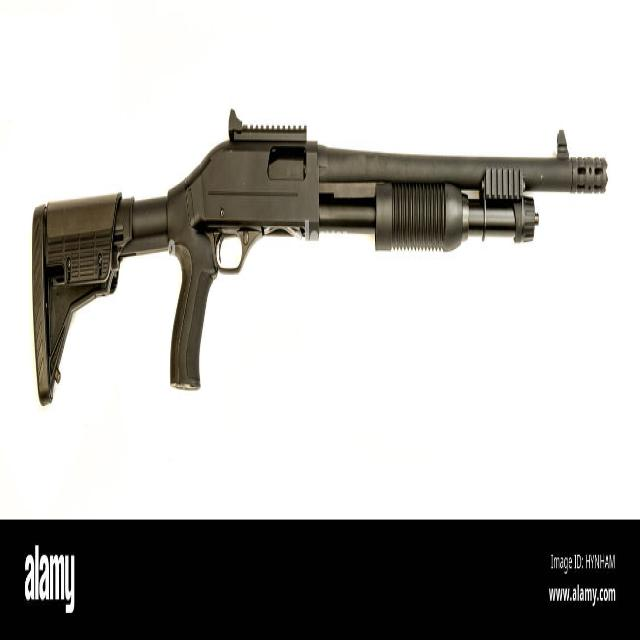ShotGun: (31, 112, 609, 406)
